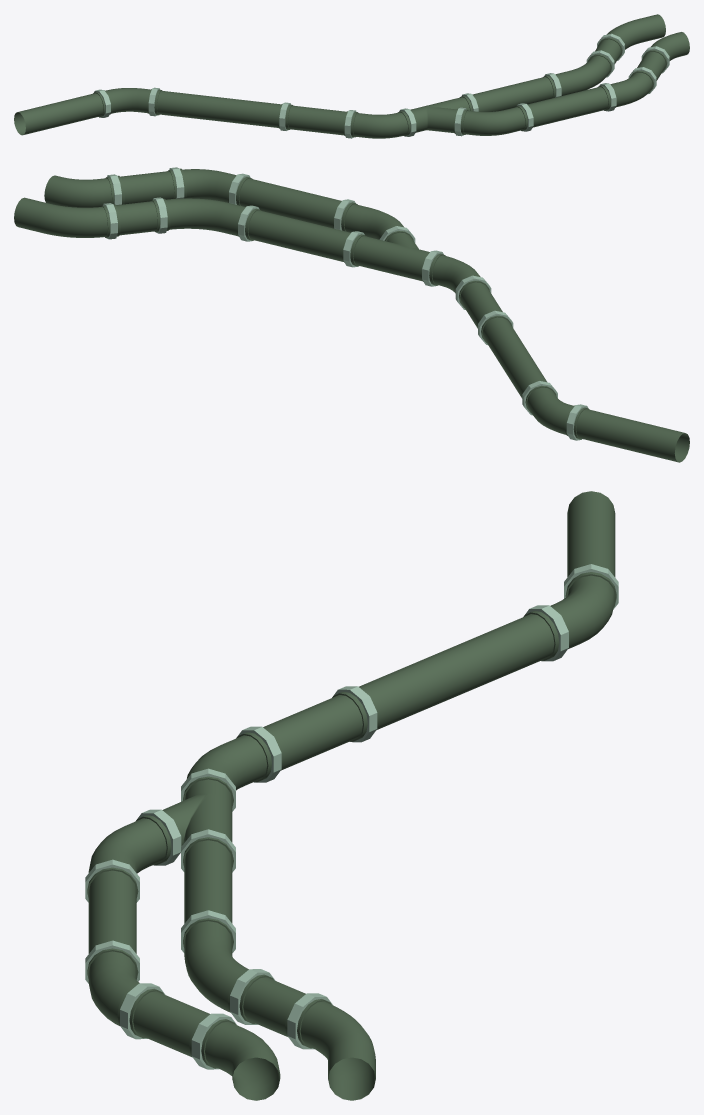
The model's file is PipeComplexLarge_A1_15.fbx.
3 views of the same model, one above another, from view 1: azimuth 30°, elevation 25°; view 2: azimuth 150°, elevation 25°; view 3: azimuth 270°, elevation 25° (orthographic). The views are drawn at different scales.
Visible parts, largest first — view 1: PipeComplexLarge_A1_15.001; view 2: PipeComplexLarge_A1_15.001; view 3: PipeComplexLarge_A1_15.001.
Boxes of the visible parts, box(x1,y1,x2,y2) form: PipeComplexLarge_A1_15.001: box(14, 14, 689, 138); PipeComplexLarge_A1_15.001: box(14, 167, 689, 462); PipeComplexLarge_A1_15.001: box(85, 491, 618, 1100).
Bounding box in the file's own units: 5.6 × 0.2411 × 2.23.
